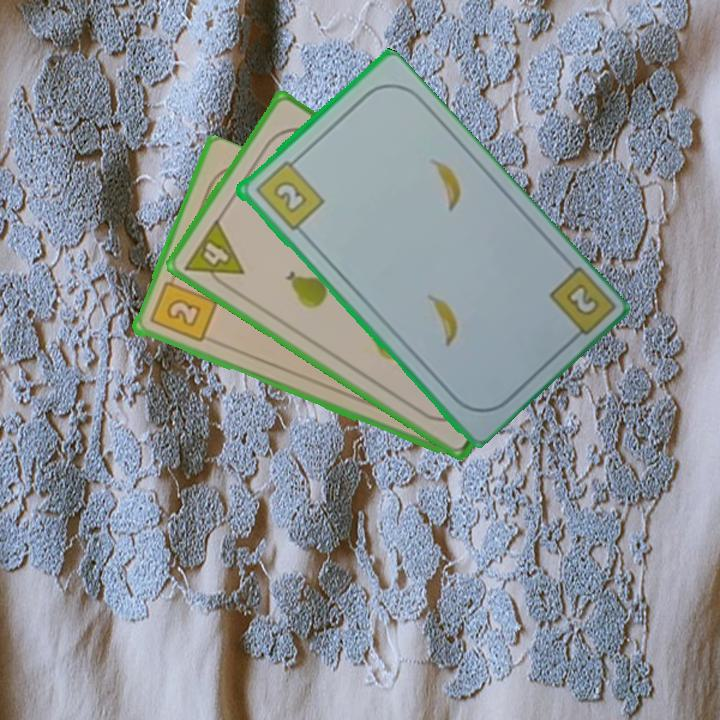2b: (251, 153, 327, 234), (544, 262, 615, 348), (146, 270, 219, 346)
4p: (180, 215, 247, 295)
